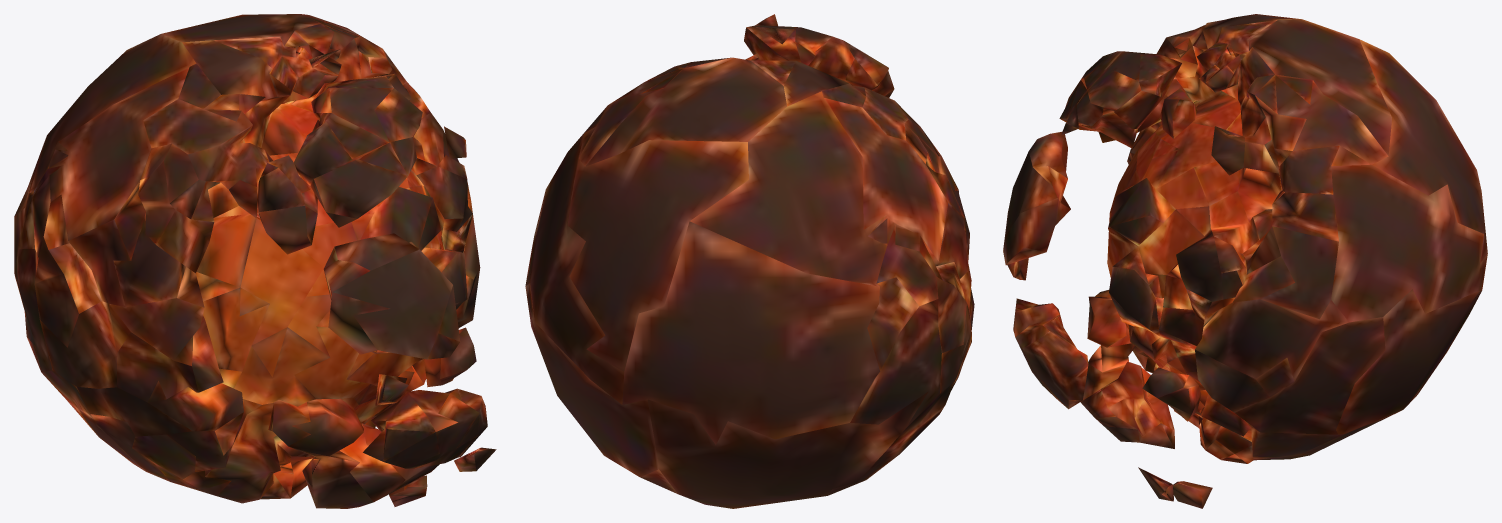
The model's file is patlamis_gezegen_2_lod.glb.
3 renders of one model, left to right at view 1: azimuth 30°, elevation 25°; view 2: azimuth 150°, elevation 25°; view 3: azimuth 270°, elevation 25°, orthographic. The views are drawn at different scales.
Size of the model in its own units: 1.7 by 1.88 by 1.89.
1 material, 1 textured.
